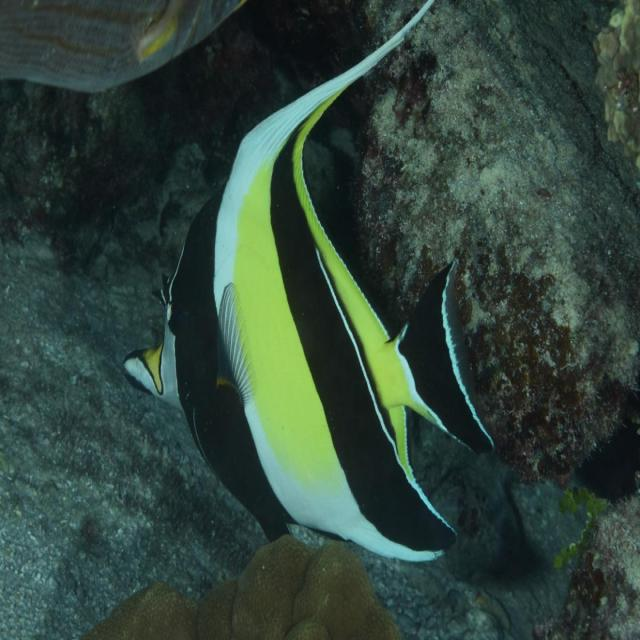MorishIdol: (121, 2, 496, 566)
